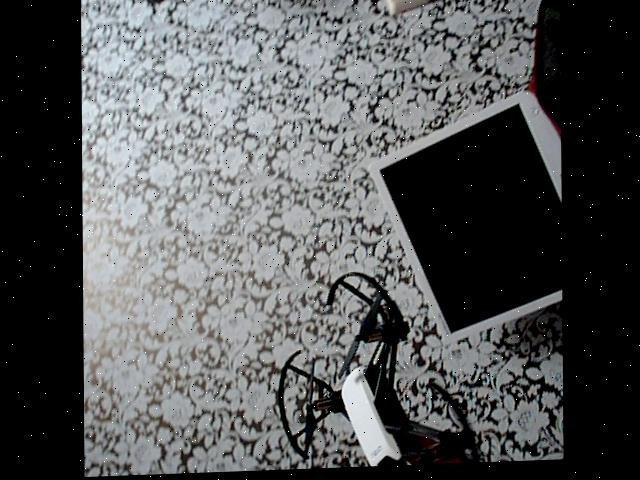drone: (269, 260, 482, 472)
